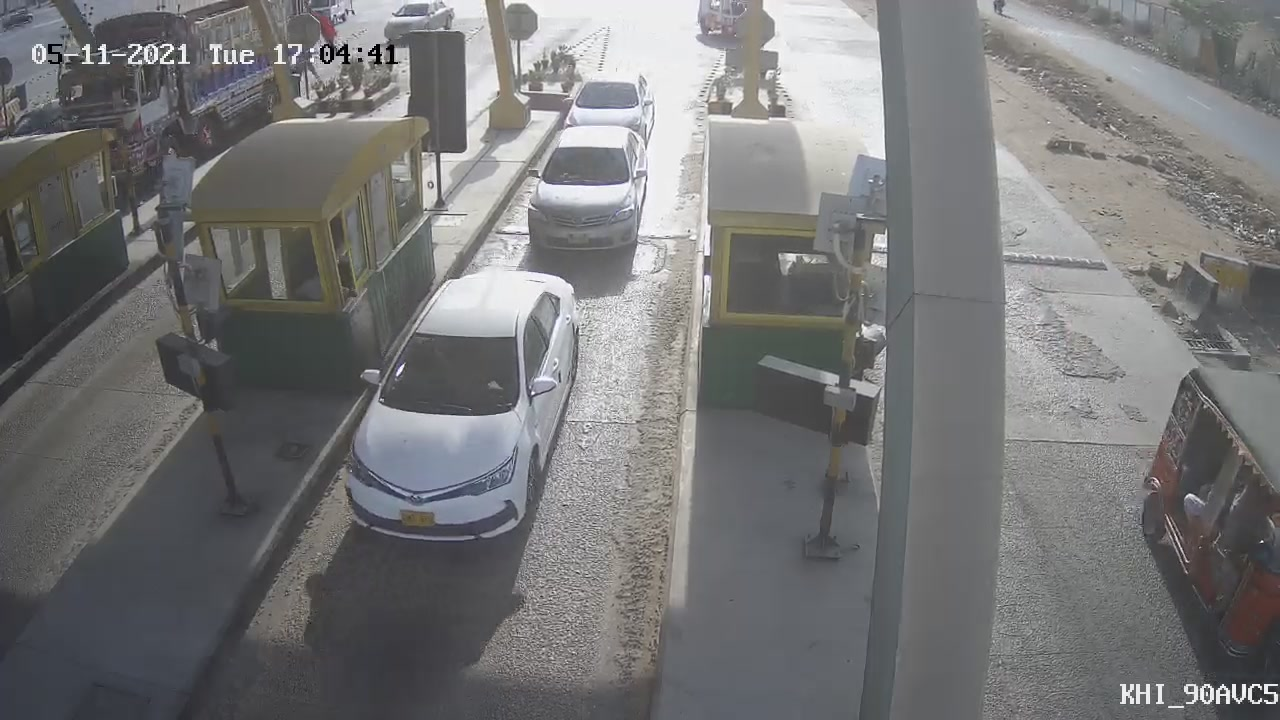F1: (323, 253, 594, 562), (508, 112, 662, 269)
